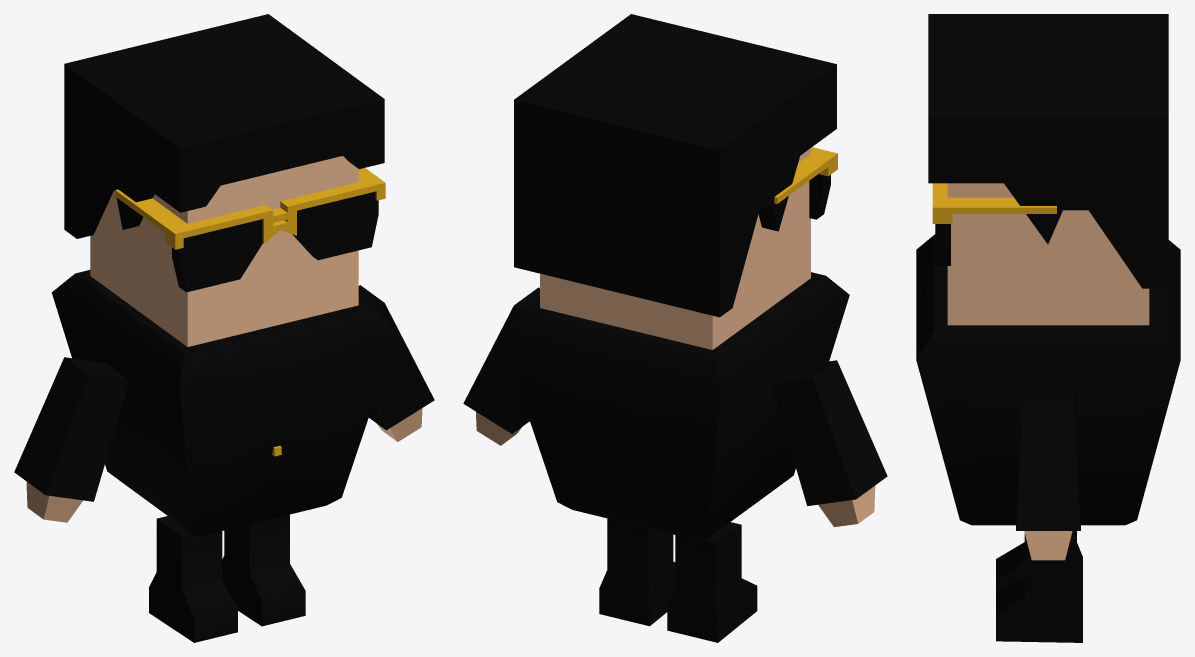
Rendered from men02.FBX.
The picture shows the model from 3 angles, left to right: view 1: azimuth 30°, elevation 25°; view 2: azimuth 150°, elevation 25°; view 3: azimuth 270°, elevation 25°; orthographic projection. The views are drawn at different scales.
Parts seen in each view (by area): view 1: Box001, Object001; view 2: Box001, Object001; view 3: Box001, Object001.
Part boxes in pixels (x1=…): Box001: x1=14, y1=14, x2=396, y2=642; Object001: x1=358, y1=285, x2=434, y2=441; Box001: x1=501, y1=14, x2=887, y2=642; Object001: x1=463, y1=287, x2=539, y2=445; Box001: x1=916, y1=14, x2=1180, y2=642; Object001: x1=1016, y1=393, x2=1080, y2=560.
Size of the model in its own units: 70.39 by 40.05 by 91.47.
